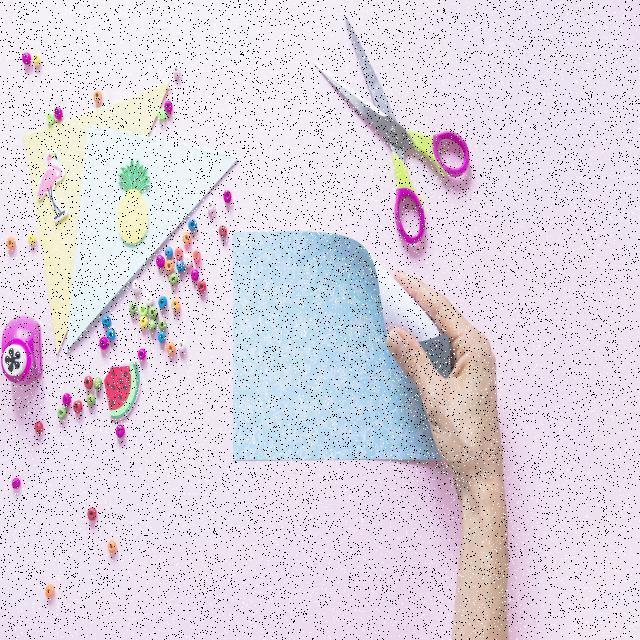scissors: (308, 7, 474, 266)
